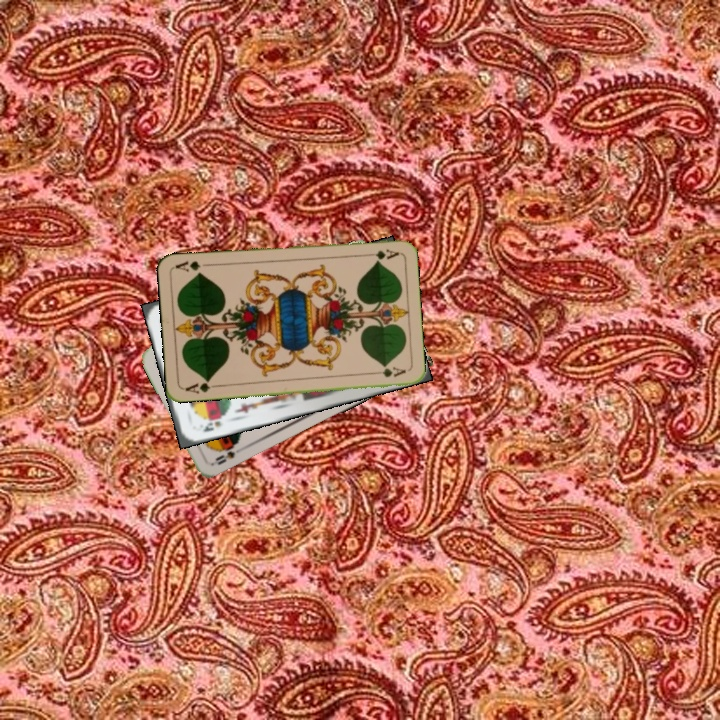GA: (181, 376, 221, 396), (360, 245, 401, 263)
SK: (199, 417, 224, 434)
SO: (209, 438, 242, 468)
